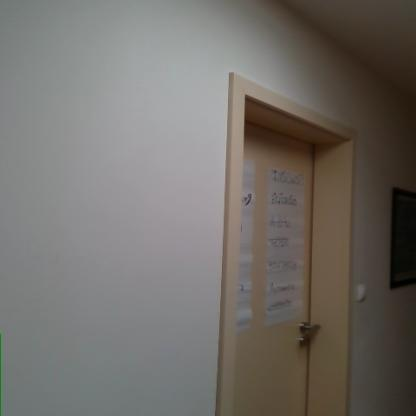semi: (207, 58, 398, 416)
